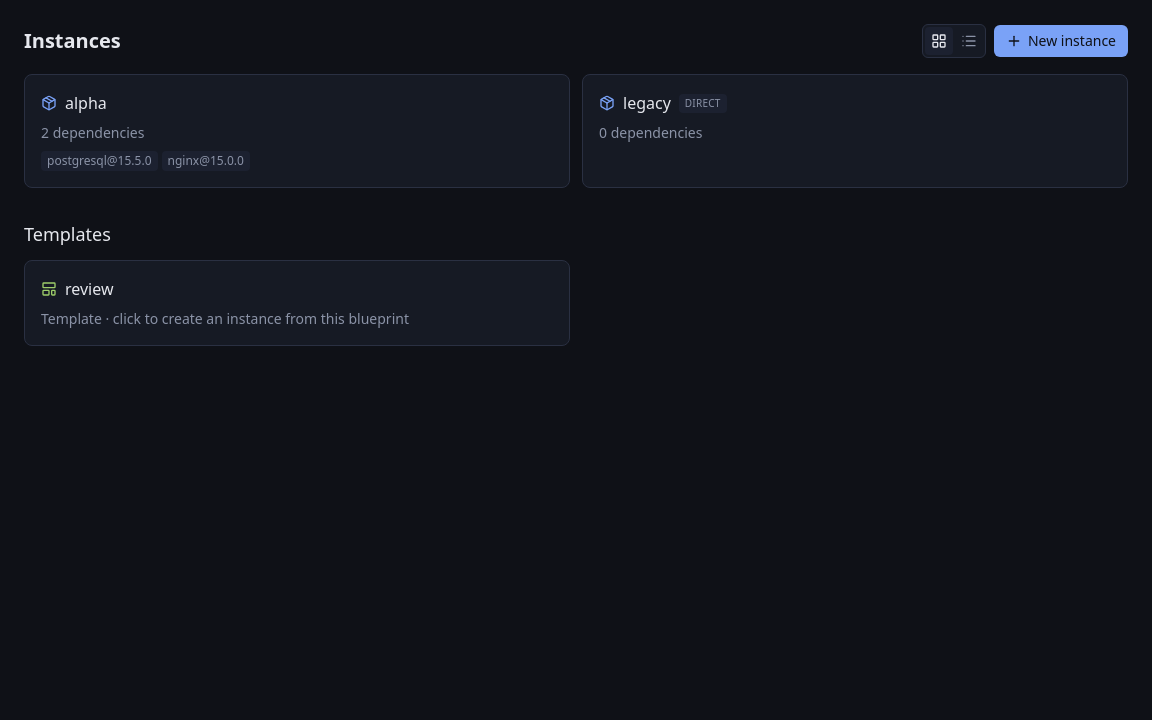
it: Dashboard › offers templates as a starting point
Click the text "review" at coordinates (89, 289), box [65,277,114,301]
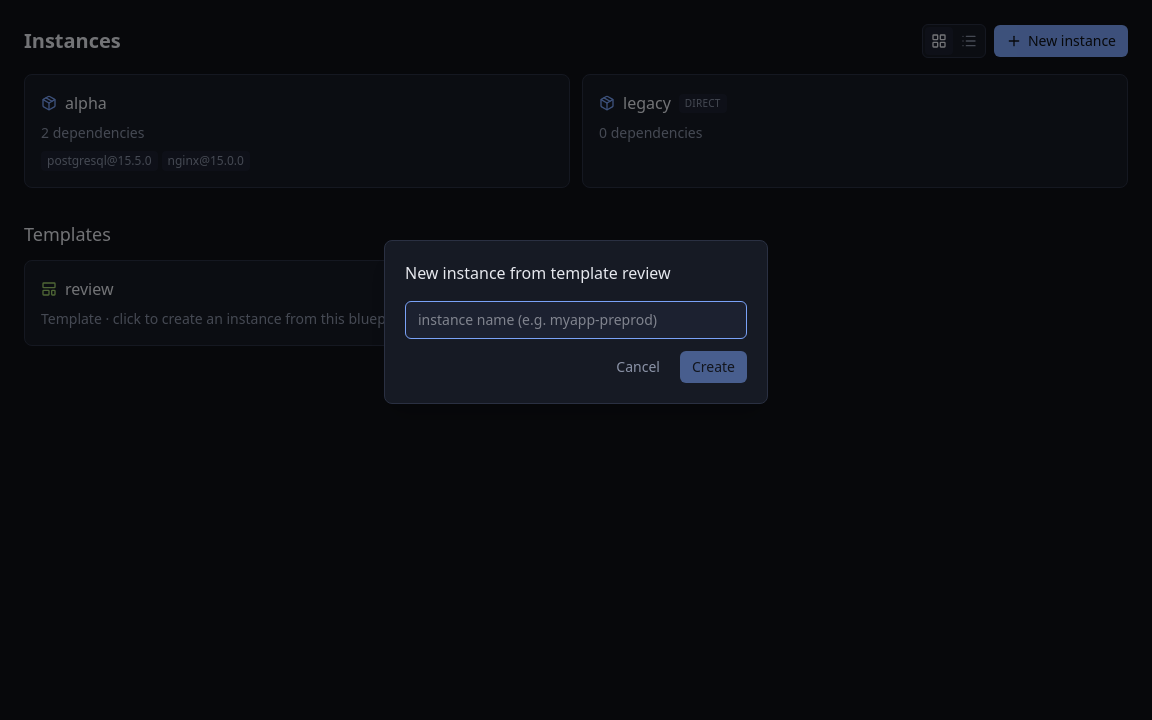
Expected: the heading "New instance from template review" is shown, [405,262,671,284]
